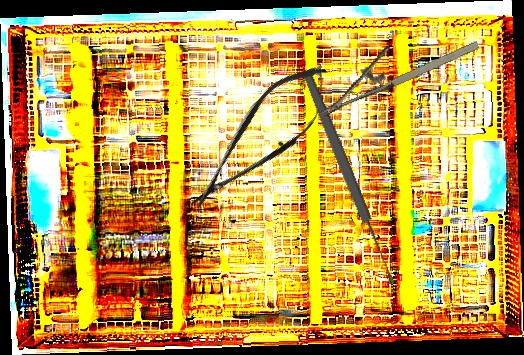Micro Scissor: (174, 49, 348, 227)
Needle Holder: (306, 14, 482, 118)
Surgical Spoon: (299, 69, 399, 287)
